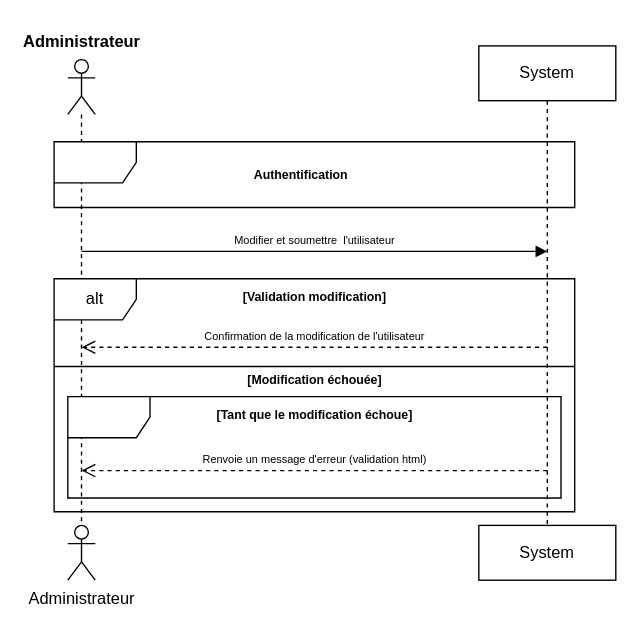
Image size: 640x632. Some labels were removed from this diagram. The box of each missing label's shape, as (x1, y1, x2, y2) in pixels:
loop: (66, 395, 561, 498)
ref: (53, 140, 575, 208)
